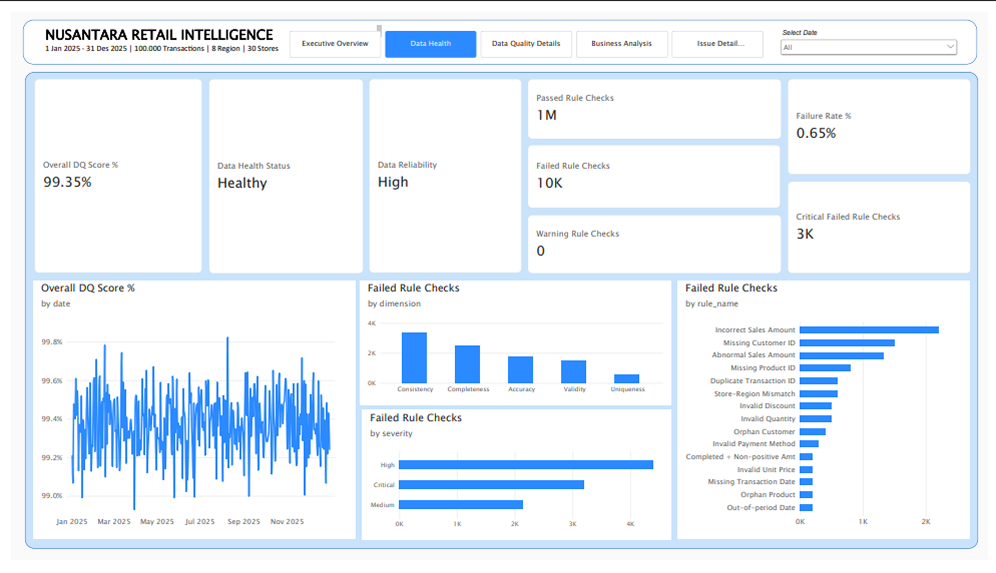

What the dashboard file says about the page in this screenshot:
{"tool":"powerbi","page":{"name":"Data Health","canvas":[1920,1080],"ordinal":1},"visuals":[{"type":"group","id":"g1","title":"Navbar and Layout","box":[22.5,15,1878.2,1042.9],"z":0},{"type":"textbox","box":[66.1,60.6,706.9,24.3],"z":0,"group":"g4"},{"type":"shape","box":[26.3,117.5,1874.4,940.4],"z":0,"group":"g1"},{"type":"shape","box":[22.5,15,1875.7,87.9],"z":1000,"group":"g1"},{"type":"textbox","box":[66.1,25,660.5,30.8],"z":1000,"group":"g4"},{"type":"cardVisual","fields":{"Data":["MEASURES (2).Overall DQ Score %"]},"box":[46,132,329,382],"z":1000,"group":"g2"},{"type":"group","id":"g2","title":"Group 1","box":[46,132,957,383],"z":1000},{"type":"slicer","fields":{"Values":["warehouse dim_date.date"]},"box":[1507.5,31.7,356.7,53.3],"z":2000,"group":"g1"},{"type":"cardVisual","fields":{"Data":["MEASURES (2).Data Reliability"]},"box":[704,132,299,382],"z":2000,"group":"g2"},{"type":"group","id":"g3","title":"Group 2","box":[1016,132,869.6,383.3],"z":2000},{"type":"group","id":"g4","title":"Group 1","box":[66.1,25,707.1,60],"z":3000,"group":"g1"},{"type":"cardVisual","fields":{"Data":["MEASURES (2).Data Health Status"]},"box":[389,132,303,383],"z":3000,"group":"g2"},{"type":"group","id":"g5","title":"Group 3","box":[43.3,528.9,1841.9,512.2],"z":3000},{"type":"pageNavigator","box":[546.7,36.7,933.3,53.3],"z":4000},{"type":"cardVisual","fields":{"Data":["MEASURES (2).Passed Rule Checks"]},"box":[1016,132,497.8,117.8],"z":4000,"group":"g3"},{"type":"cardVisual","fields":{"Data":["MEASURES (2).Failure Rate %"]},"box":[1527.2,132,358.3,188.3],"z":5000,"group":"g3"},{"type":"cardVisual","fields":{"Data":["MEASURES (2).Warning Rule Checks"]},"box":[1016,400,498,115],"z":6000,"group":"g3"},{"type":"cardVisual","fields":{"Data":["MEASURES (2).Failed Rule Checks"]},"box":[1016,262,495.6,124.4],"z":7000,"group":"g3"},{"type":"lineChart","fields":{"Category":["warehouse dim_date.date"],"Y":["MEASURES (2).Overall DQ Score %"]},"box":[43.3,528.9,632.6,508.9],"z":8000,"group":"g5"},{"type":"clusteredBarChart","fields":{"Category":["quality dim_dq_rule.rule_name"],"Y":["MEASURES (2).Failed Rule Checks"]},"box":[1310.7,529,574.4,508.9],"z":9000,"group":"g5"},{"type":"clusteredBarChart","fields":{"Category":["quality dim_dq_rule.severity"],"Y":["MEASURES (2).Failed Rule Checks"]},"box":[689.9,784.5,608.1,256.7],"z":10000,"group":"g5"},{"type":"clusteredColumnChart","fields":{"Category":["quality dim_dq_rule.dimension"],"Y":["MEASURES (2).Failed Rule Checks"]},"box":[685.2,529,612.2,244.4],"z":11000,"group":"g5"},{"type":"cardVisual","fields":{"Data":["MEASURES (2).Critical Failed Rule Checks"]},"box":[1527.2,333.7,358.3,181.7],"z":13000,"group":"g3"}]}

Visuals, with their boxes in screenshot pixels (x1, y1, x2, y2), scaled from the page's 1920x1080 canvas onto the 996x573 screenshot:
"Navbar and Layout" group: {"left": 12, "top": 8, "right": 986, "bottom": 561}
textbox: {"left": 34, "top": 32, "right": 401, "bottom": 45}
shape: {"left": 14, "top": 62, "right": 986, "bottom": 561}
shape: {"left": 12, "top": 8, "right": 985, "bottom": 55}
textbox: {"left": 34, "top": 13, "right": 377, "bottom": 30}
cardVisual - MEASURES (2).Overall DQ Score %: {"left": 24, "top": 70, "right": 195, "bottom": 273}
"Group 1" group: {"left": 24, "top": 70, "right": 520, "bottom": 273}
slicer - warehouse dim_date.date: {"left": 782, "top": 17, "right": 967, "bottom": 45}
cardVisual - MEASURES (2).Data Reliability: {"left": 365, "top": 70, "right": 520, "bottom": 273}
"Group 2" group: {"left": 527, "top": 70, "right": 978, "bottom": 273}
"Group 1" group: {"left": 34, "top": 13, "right": 401, "bottom": 45}
cardVisual - MEASURES (2).Data Health Status: {"left": 202, "top": 70, "right": 359, "bottom": 273}
"Group 3" group: {"left": 22, "top": 281, "right": 978, "bottom": 552}
pageNavigator: {"left": 284, "top": 19, "right": 768, "bottom": 48}
cardVisual - MEASURES (2).Passed Rule Checks: {"left": 527, "top": 70, "right": 785, "bottom": 133}
cardVisual - MEASURES (2).Failure Rate %: {"left": 792, "top": 70, "right": 978, "bottom": 170}
cardVisual - MEASURES (2).Warning Rule Checks: {"left": 527, "top": 212, "right": 785, "bottom": 273}
cardVisual - MEASURES (2).Failed Rule Checks: {"left": 527, "top": 139, "right": 784, "bottom": 205}
lineChart - warehouse dim_date.date x MEASURES (2).Overall DQ Score %: {"left": 22, "top": 281, "right": 351, "bottom": 551}
clusteredBarChart - quality dim_dq_rule.rule_name x MEASURES (2).Failed Rule Checks: {"left": 680, "top": 281, "right": 978, "bottom": 551}
clusteredBarChart - quality dim_dq_rule.severity x MEASURES (2).Failed Rule Checks: {"left": 358, "top": 416, "right": 673, "bottom": 552}
clusteredColumnChart - quality dim_dq_rule.dimension x MEASURES (2).Failed Rule Checks: {"left": 355, "top": 281, "right": 673, "bottom": 410}
cardVisual - MEASURES (2).Critical Failed Rule Checks: {"left": 792, "top": 177, "right": 978, "bottom": 273}
